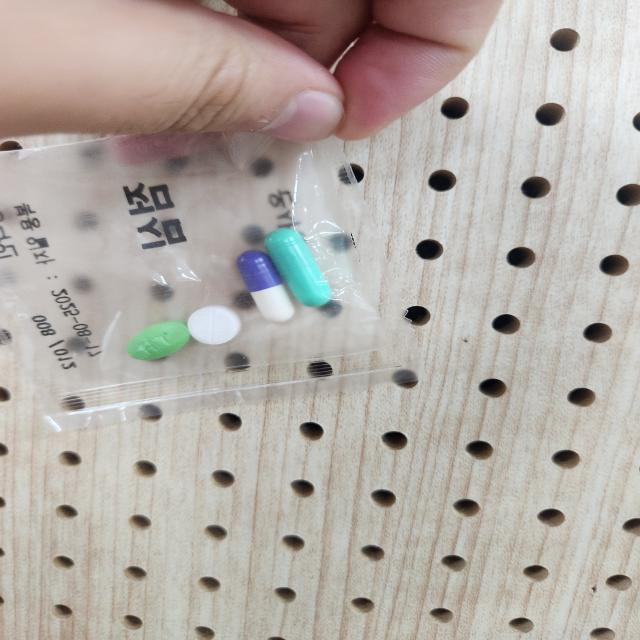러키펜정: (187, 307, 241, 346)
씨엠지세파클러캡슐: (235, 244, 299, 326)
에르도캡슐: (265, 221, 343, 317)
휴티렌정: (128, 320, 194, 364)
